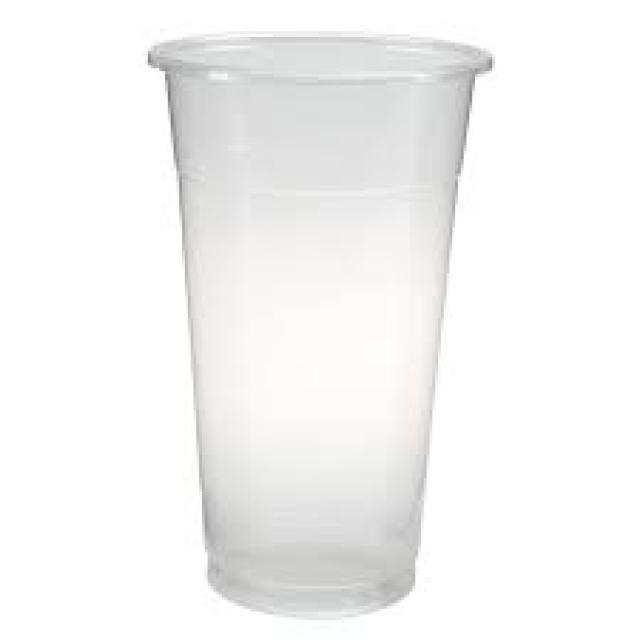cup: (149, 35, 492, 617)
